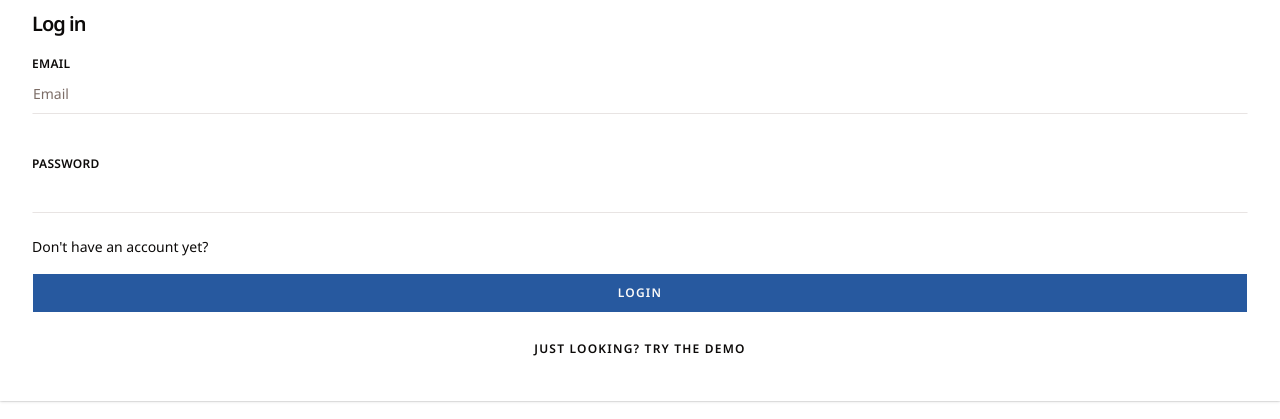
Scenario: LoginForm › disables the button while signing in
Type "ada@example.com" into the field with placeholder "Email". click: (640, 94)
box: [32, 74, 1248, 114]
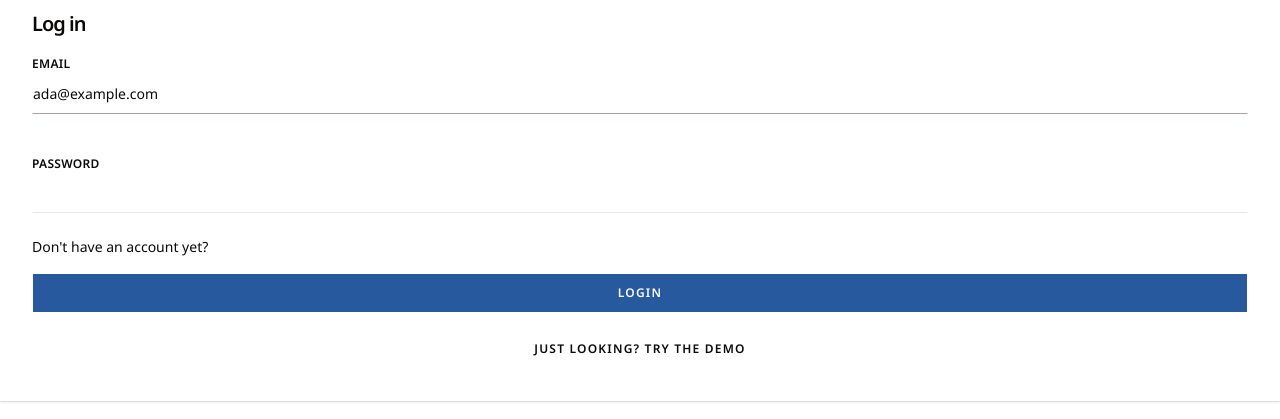
Type "Passw0rdTest" into the password field. click: (640, 193)
box: [32, 173, 1248, 213]
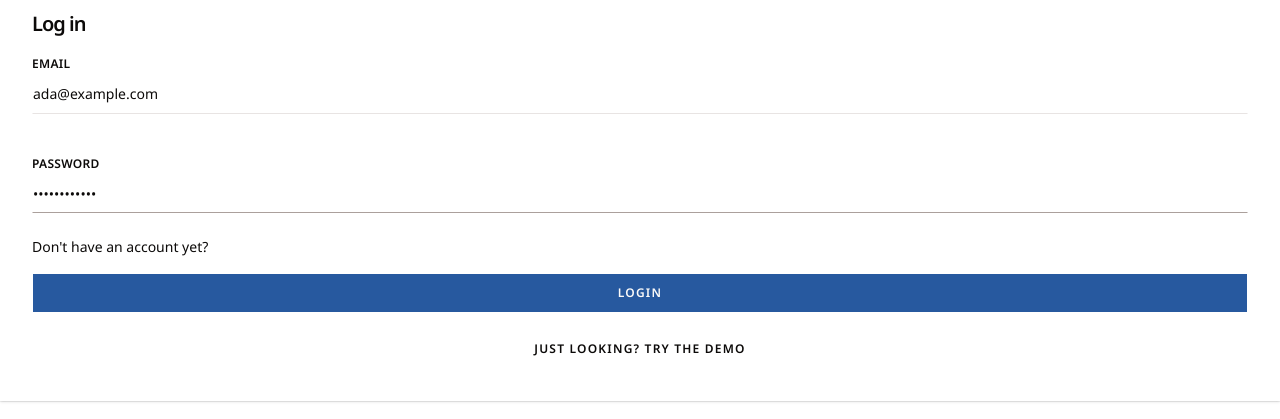
Click the button "Login". click: (640, 293)
box: [32, 273, 1248, 313]
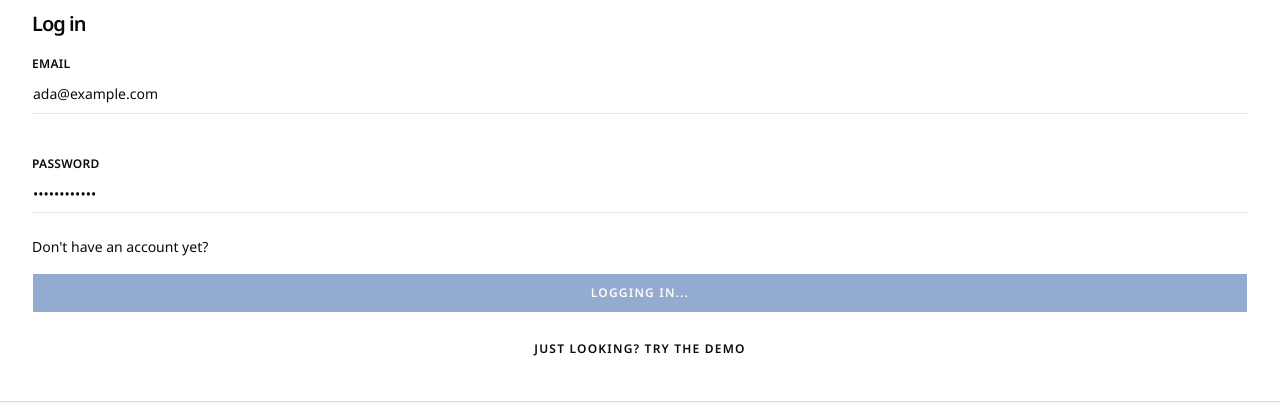
Expected: the button "Logging in..." is disabled, [32, 273, 1248, 313]
